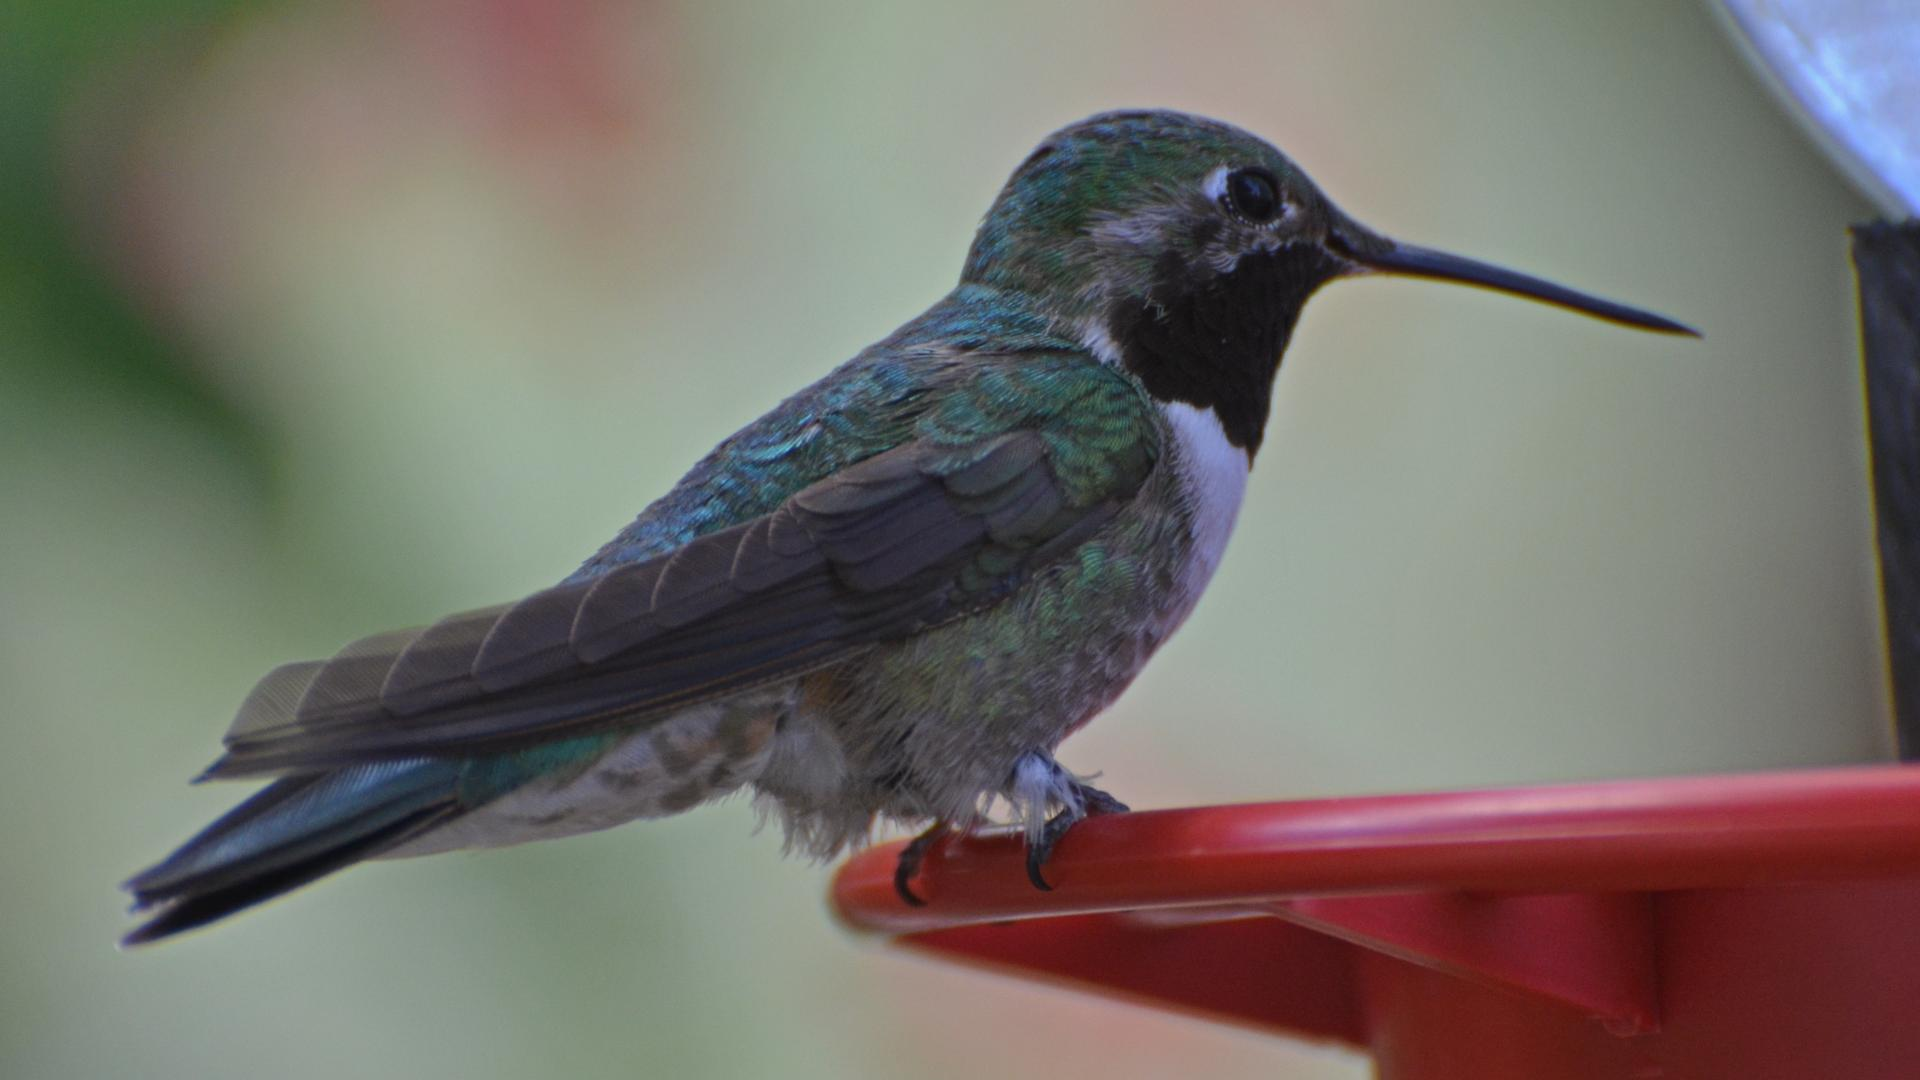archilochus alexandri: (108, 105, 1704, 953)
